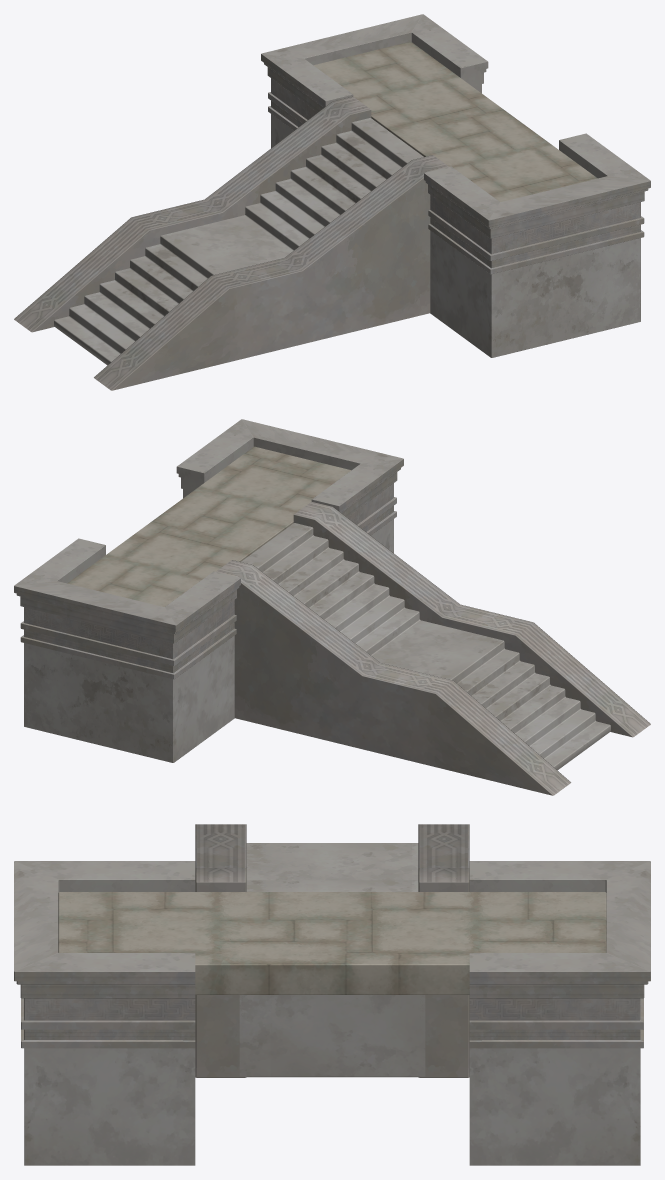
Rendered from SM_Stair_Case.fbx.
3 views of the same model, one above another, from view 1: azimuth 30°, elevation 25°; view 2: azimuth 150°, elevation 25°; view 3: azimuth 270°, elevation 25° (orthographic). The views are drawn at different scales.
Visible parts, largest first — view 1: SM_Stair_Case_LOD0; view 2: SM_Stair_Case_LOD0; view 3: SM_Stair_Case_LOD0.
Part boxes in pixels (x1,y1,x2,y2): SM_Stair_Case_LOD0: (14, 14, 650, 390); SM_Stair_Case_LOD0: (14, 419, 650, 795); SM_Stair_Case_LOD0: (14, 824, 650, 1165).
Size of the model in its own units: 1118 by 930 by 319.
Materials: 3 (3 with a texture image).
